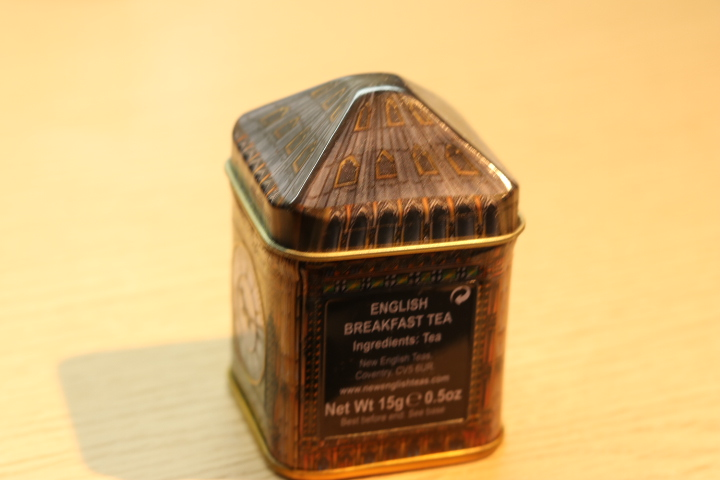Big Ben: (197, 59, 543, 480)
